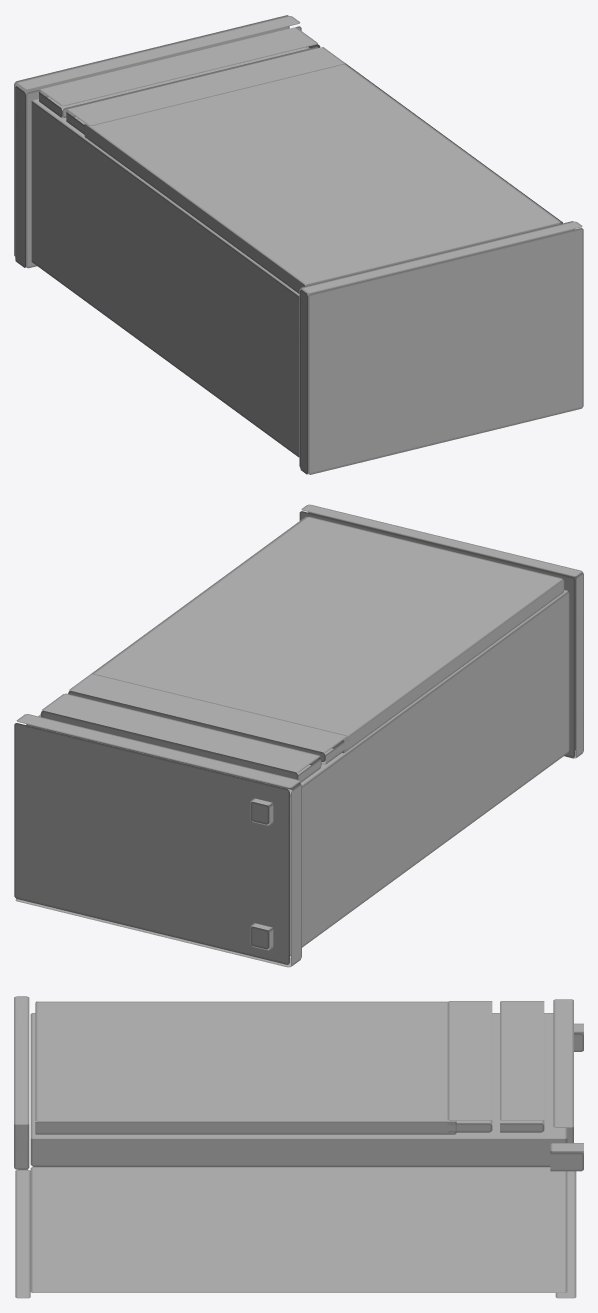
The model's file is pz_wardrobe_storage_01_light_wood_0_0.obj.
3 renders of one model, top to bottom at view 1: azimuth 30°, elevation 25°; view 2: azimuth 150°, elevation 25°; view 3: azimuth 270°, elevation 25°, orthographic. The views are drawn at different scales.
Size of the model in its own units: 0.995 by 0.625 by 1.86.
Materials: 1 (1 with a texture image).
